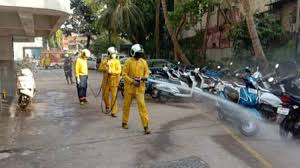mask: (132, 43, 144, 61), (78, 47, 90, 62), (108, 46, 118, 59)
